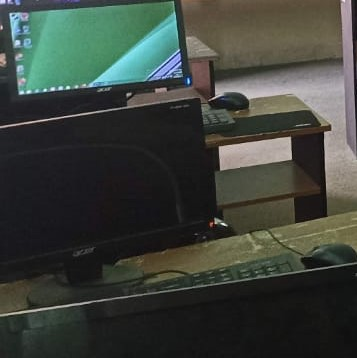monitor: (1, 97, 223, 285), (1, 0, 193, 118)
